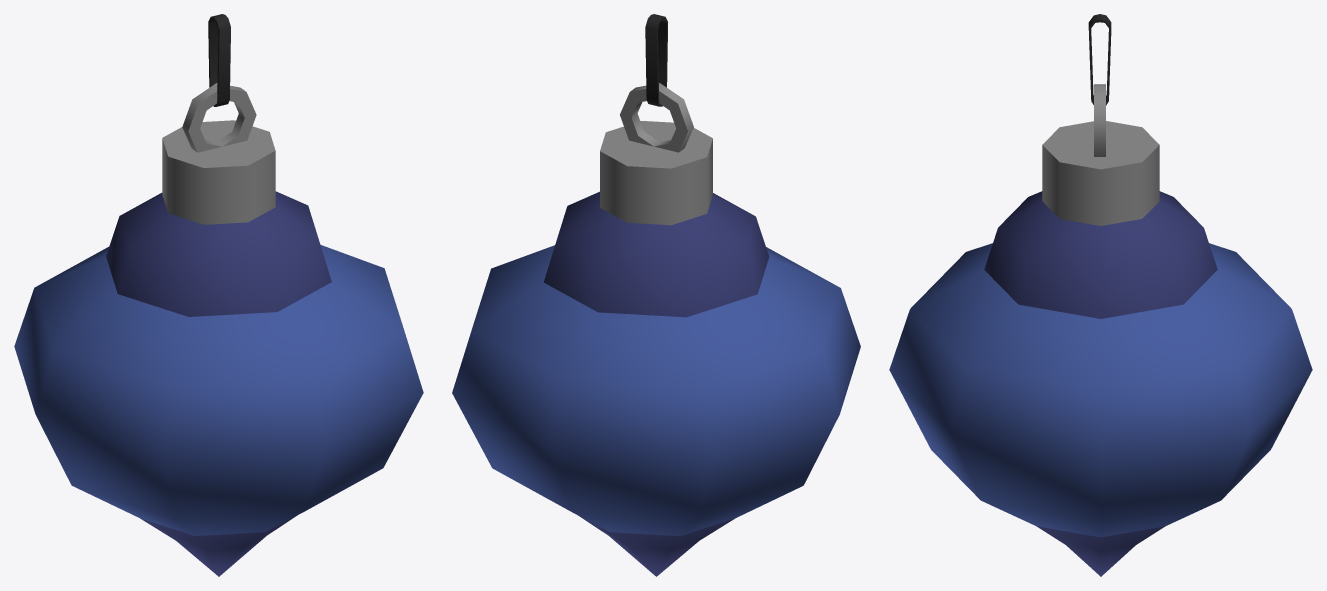
File: Ornament_01.fbx
3 renders of one model, left to right at view 1: azimuth 30°, elevation 25°; view 2: azimuth 150°, elevation 25°; view 3: azimuth 270°, elevation 25°, orthographic.
Parts seen in each view (by area): view 1: Ornament_01; view 2: Ornament_01; view 3: Ornament_01.
Boxes of the visible parts, <box> form: Ornament_01: <box>14,14,423,576</box>; Ornament_01: <box>452,14,860,576</box>; Ornament_01: <box>889,14,1312,576</box>.
Bounding box in the file's own units: 0.1146 × 0.1673 × 0.1146.
